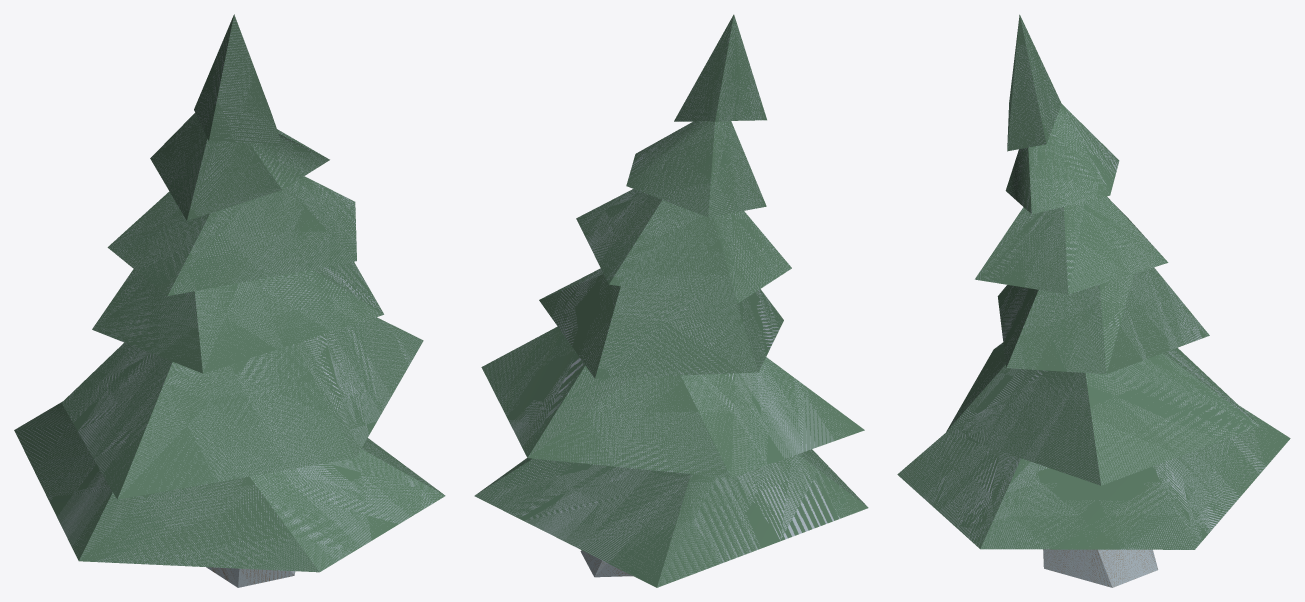
Rendered from Tree_Pine_04.fbx.
The picture shows the model from 3 angles, left to right: view 1: azimuth 30°, elevation 25°; view 2: azimuth 150°, elevation 25°; view 3: azimuth 270°, elevation 25°; orthographic projection. The views are drawn at different scales.
Parts seen in each view (by area): view 1: Model; view 2: Model; view 3: Model.
Boxes of the visible parts, <box> form: Model: <box>14,14,445,587</box>; Model: <box>474,14,868,587</box>; Model: <box>897,14,1290,587</box>.
Size of the model in its own units: 443 by 642 by 438.
